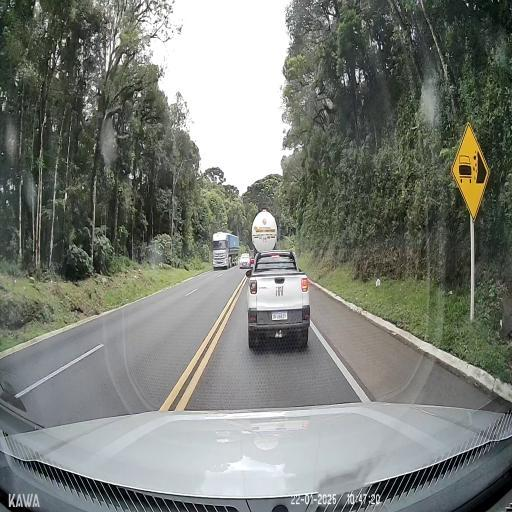A-27: (452, 122, 490, 222)
